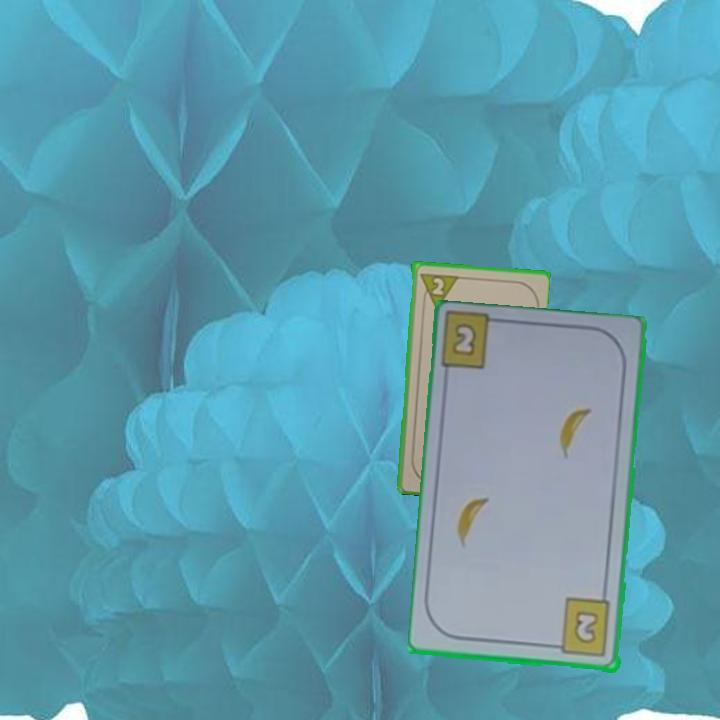2b: (548, 595, 614, 660), (449, 319, 480, 360)
2p: (416, 269, 459, 311)
